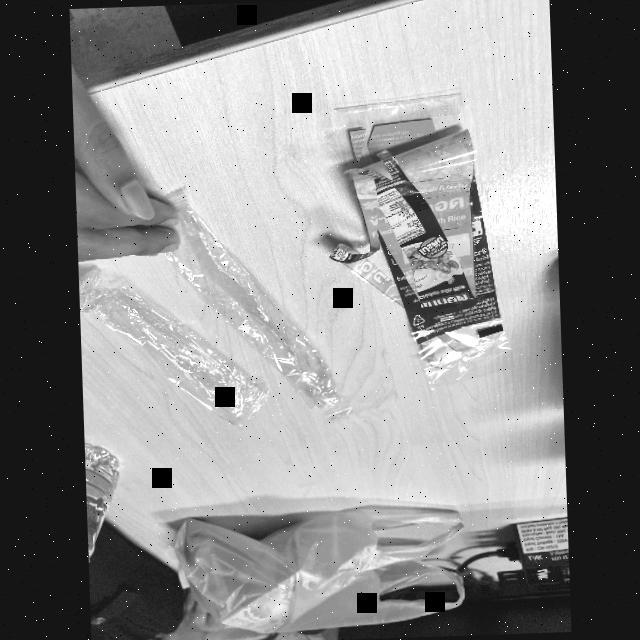scrap_plastic: (353, 88, 524, 396), (156, 198, 348, 429), (78, 270, 262, 443)
